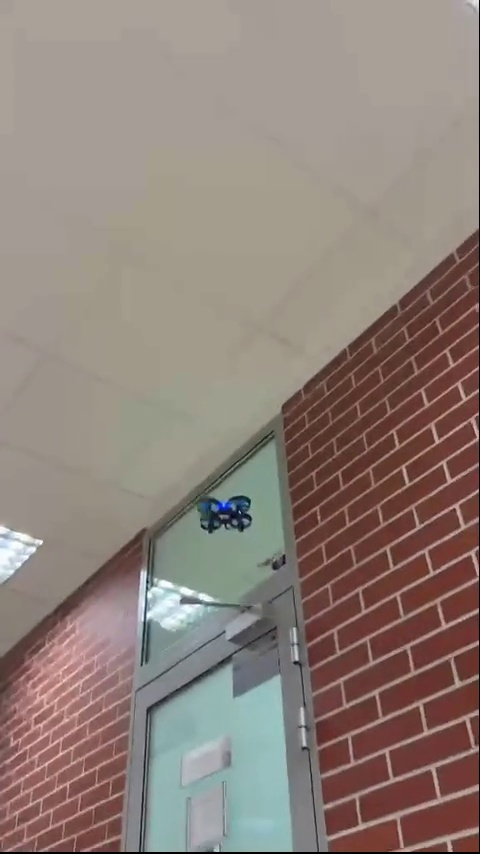drone: (198, 496, 251, 533)
